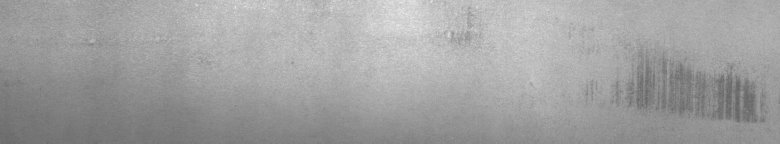ka: (612, 60, 765, 128)
